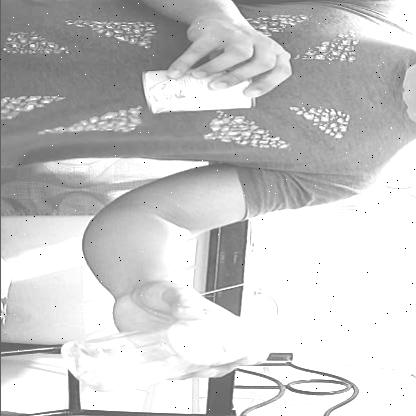Plastic Bottle: (37, 303, 286, 412)
